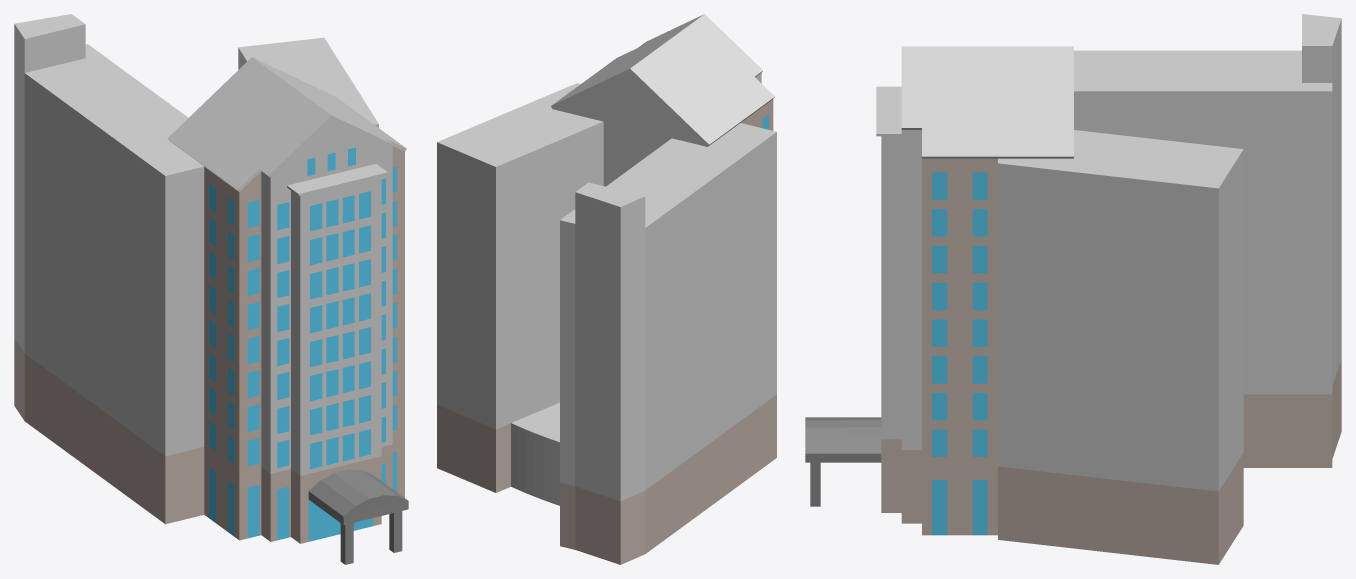
Rendered from ChamBit.glb.
The picture shows the model from 3 angles, left to right: view 1: azimuth 30°, elevation 25°; view 2: azimuth 150°, elevation 25°; view 3: azimuth 270°, elevation 25°; orthographic projection. The views are drawn at different scales.
Parts seen in each view (by area): view 1: Main, Main Red, Window, Entrance; view 2: Main, Main Red; view 3: Main, Main Red, Window, Entrance.
Boxes of the visible parts, box(x1,y1,x2,y2) form: Main: box(14, 14, 406, 475); Main Red: box(14, 146, 404, 543); Window: box(209, 147, 396, 541); Entrance: box(308, 469, 408, 564); Main: box(437, 14, 776, 505); Main Red: box(437, 99, 776, 564); Main: box(876, 14, 1341, 491); Main Red: box(881, 158, 1341, 564); Window: box(932, 172, 987, 535); Entrance: box(805, 417, 881, 506).
Bounding box in the file's own units: 32.16 × 48.48 × 52.94.
